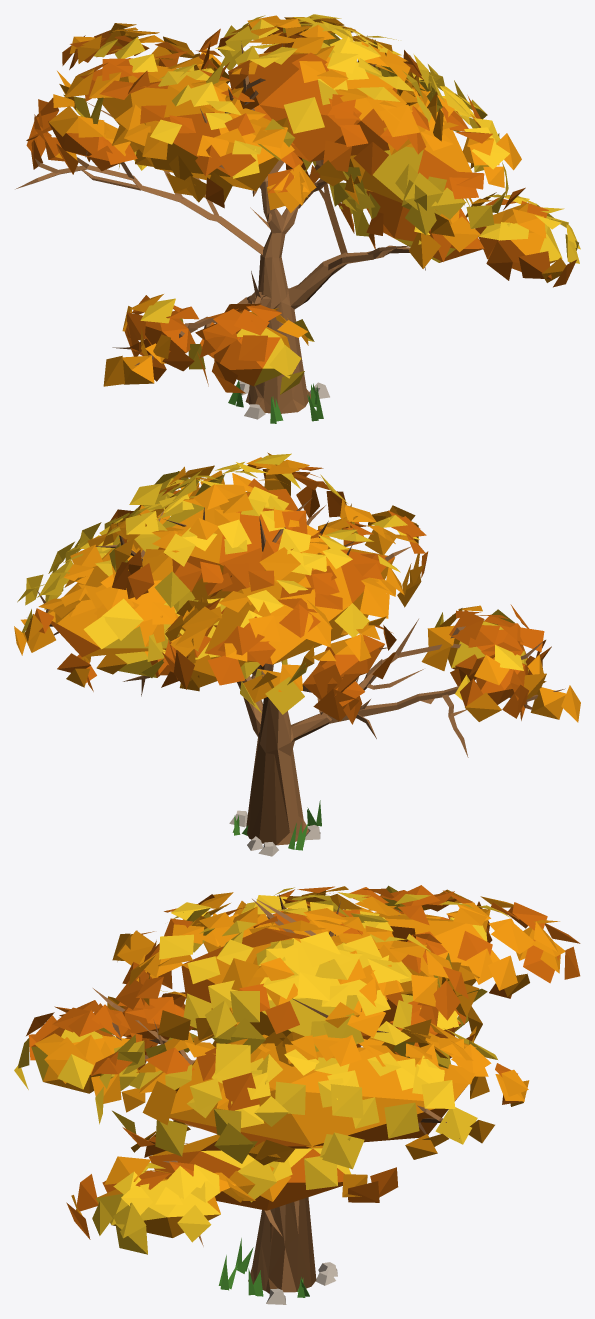
File: yellow_oak_autumn.glb
3 renders of one model, top to bottom at view 1: azimuth 30°, elevation 25°; view 2: azimuth 150°, elevation 25°; view 3: azimuth 270°, elevation 25°, orthographic. The views are drawn at different scales.
Visible parts, largest first — view 1: yellow_oak_autumn; view 2: yellow_oak_autumn; view 3: yellow_oak_autumn.
Boxes of the visible parts, x1,y1,x2,y2 form: yellow_oak_autumn: (15,14,580,423); yellow_oak_autumn: (14,452,580,856); yellow_oak_autumn: (14,885,580,1304).
Size of the model in its own units: 8.83 by 6.36 by 8.42.
